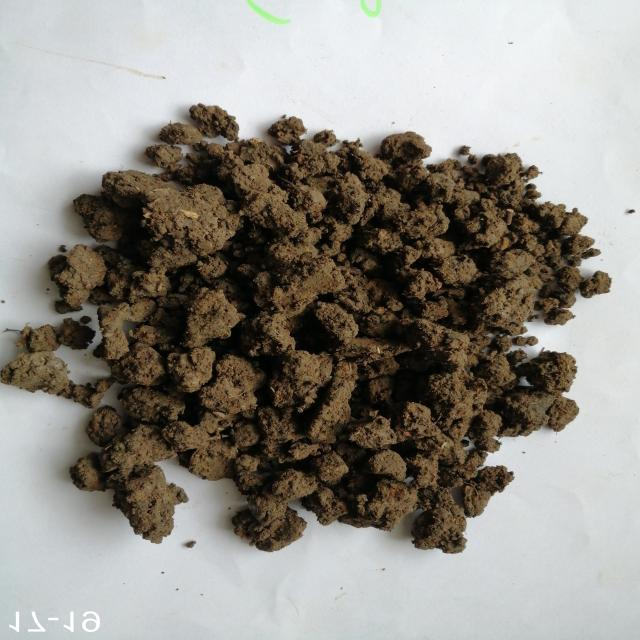soil: (130, 172, 512, 470)
